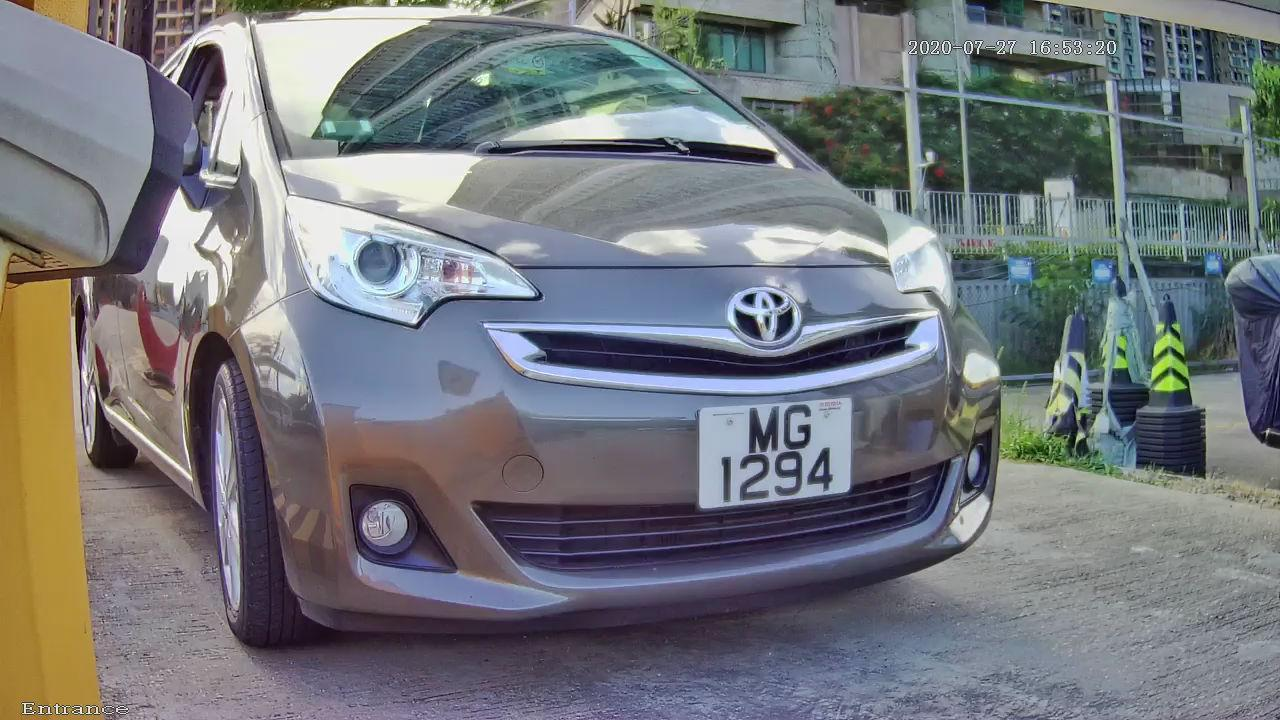privatecar: (69, 17, 1092, 676)
